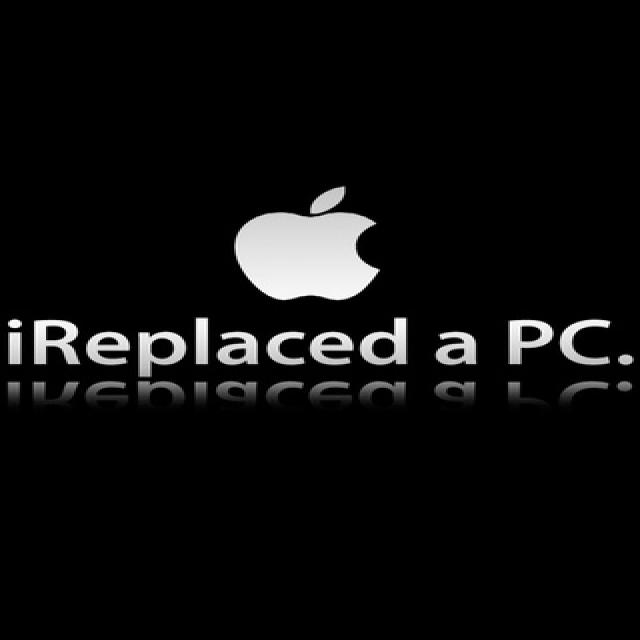apple: (217, 182, 397, 305)
